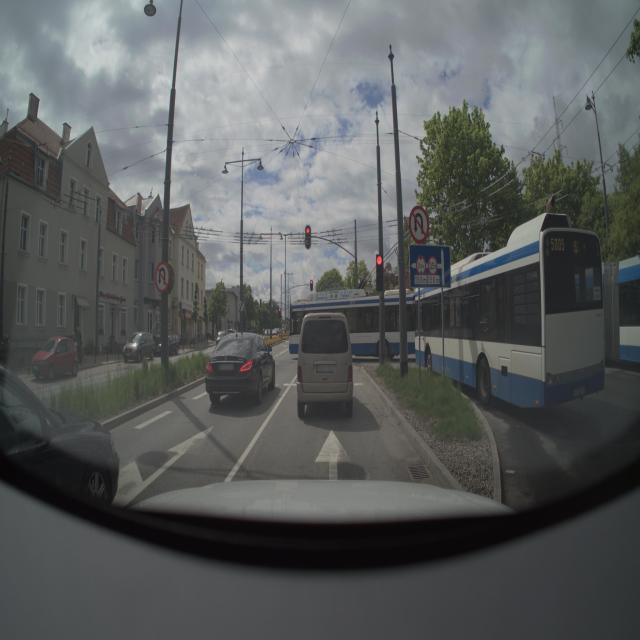red_light: (374, 250, 386, 296), (303, 225, 314, 252)
